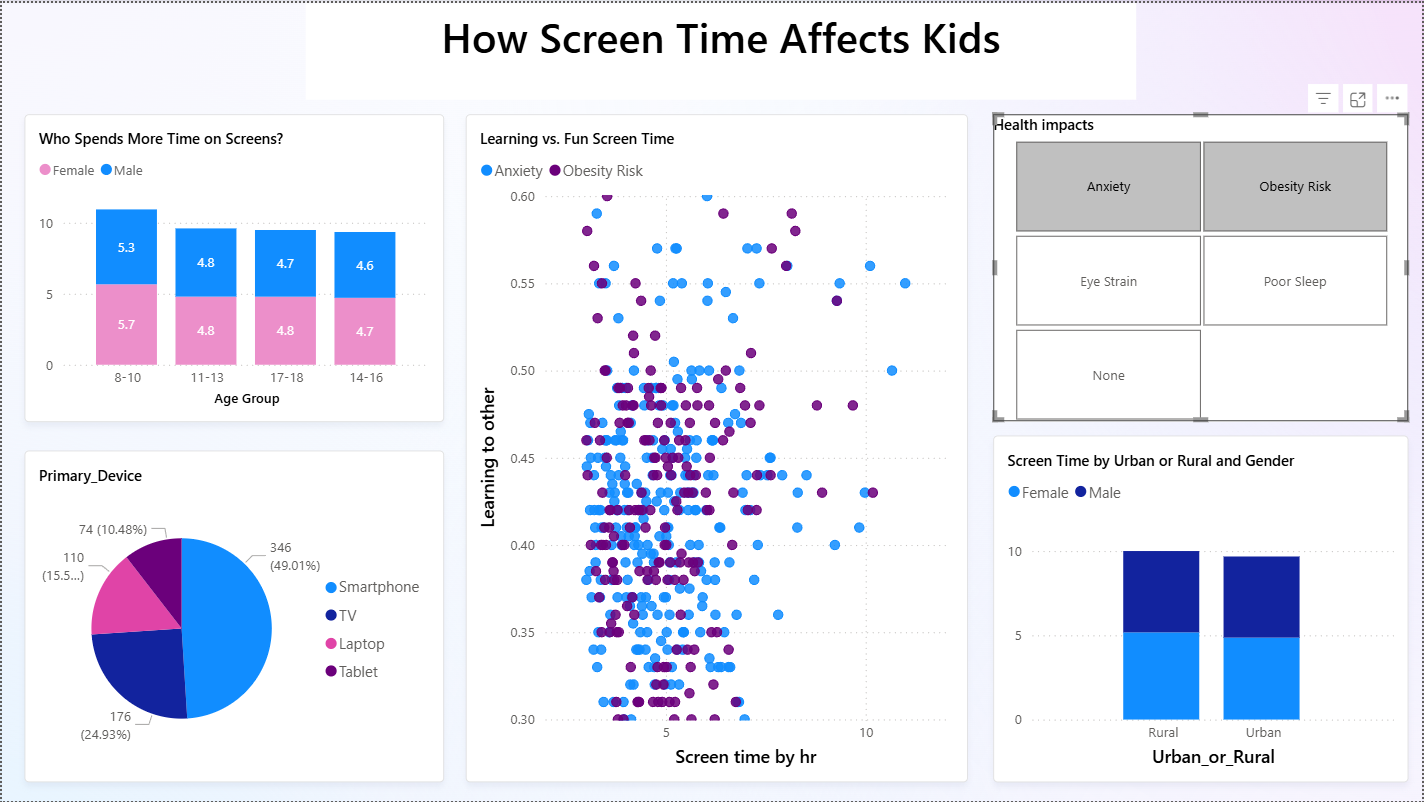

What the dashboard file says about the page in this screenshot:
{"tool":"powerbi","page":{"name":"Page 1","canvas":[1280,720],"ordinal":0},"visuals":[{"type":"columnChart","title":"Who Spends More Time on Screens?","fields":{"Category":["Indian_Kids_Screen_Time.Age Group"],"Y":["Indian_Kids_Screen_Time.Avg Screen Time"],"Series":["Indian_Kids_Screen_Time.Gender"]},"box":[20.3,100.3,378.7,277.3],"z":0},{"type":"pieChart","title":"Primary_Device","fields":{"Category":["Indian_Kids_Screen_Time.Primary_Device"],"Y":["CountNonNull(Indian_Kids_Screen_Time.Primary_Device)"]},"box":[20.6,403.4,378.7,299.1],"z":1000},{"type":"scatterChart","title":"Learning vs. Fun Screen Time","fields":{"X":["Indian_Kids_Screen_Time.Avg_Daily_Screen_Time_hr"],"Y":["Median(Indian_Kids_Screen_Time.Educational_to_Recreational_Ratio)"],"Series":["Indian_Kids_Screen_Time.Health_Impacts.1"]},"box":[418.5,100.2,452.8,602.4],"z":2000},{"type":"columnChart","title":"Screen Time by Urban or Rural and Gender","fields":{"Category":["Indian_Kids_Screen_Time.Urban_or_Rural"],"Y":["Indian_Kids_Screen_Time.Avg Screen Time"],"Series":["Indian_Kids_Screen_Time.Gender"]},"box":[893.3,389.7,374.6,312.9],"z":3000},{"type":"textbox","box":[274,0,748.9,86.8],"z":4000},{"type":"slicer","title":"Health impacts","fields":{"Values":["Indian_Kids_Screen_Time.Health_Impacts.1"]},"box":[893.6,100.4,374.5,277.4],"z":5000}]}

Visuals, with their boxes on the page's 1280x720 design canvas (x1, y1, x2, y2). These are canvas units, not pixel positions in the 1424x802 screenshot, which may show the page scaled, cropped or inside an application window:
"Who Spends More Time on Screens?" columnChart: [x1=20, y1=100, x2=399, y2=378]
"Primary_Device" pieChart: [x1=21, y1=403, x2=399, y2=702]
"Learning vs. Fun Screen Time" scatterChart: [x1=418, y1=100, x2=871, y2=703]
"Screen Time by Urban or Rural and Gender" columnChart: [x1=893, y1=390, x2=1268, y2=703]
textbox: [x1=274, y1=0, x2=1023, y2=87]
"Health impacts" slicer: [x1=894, y1=100, x2=1268, y2=378]
